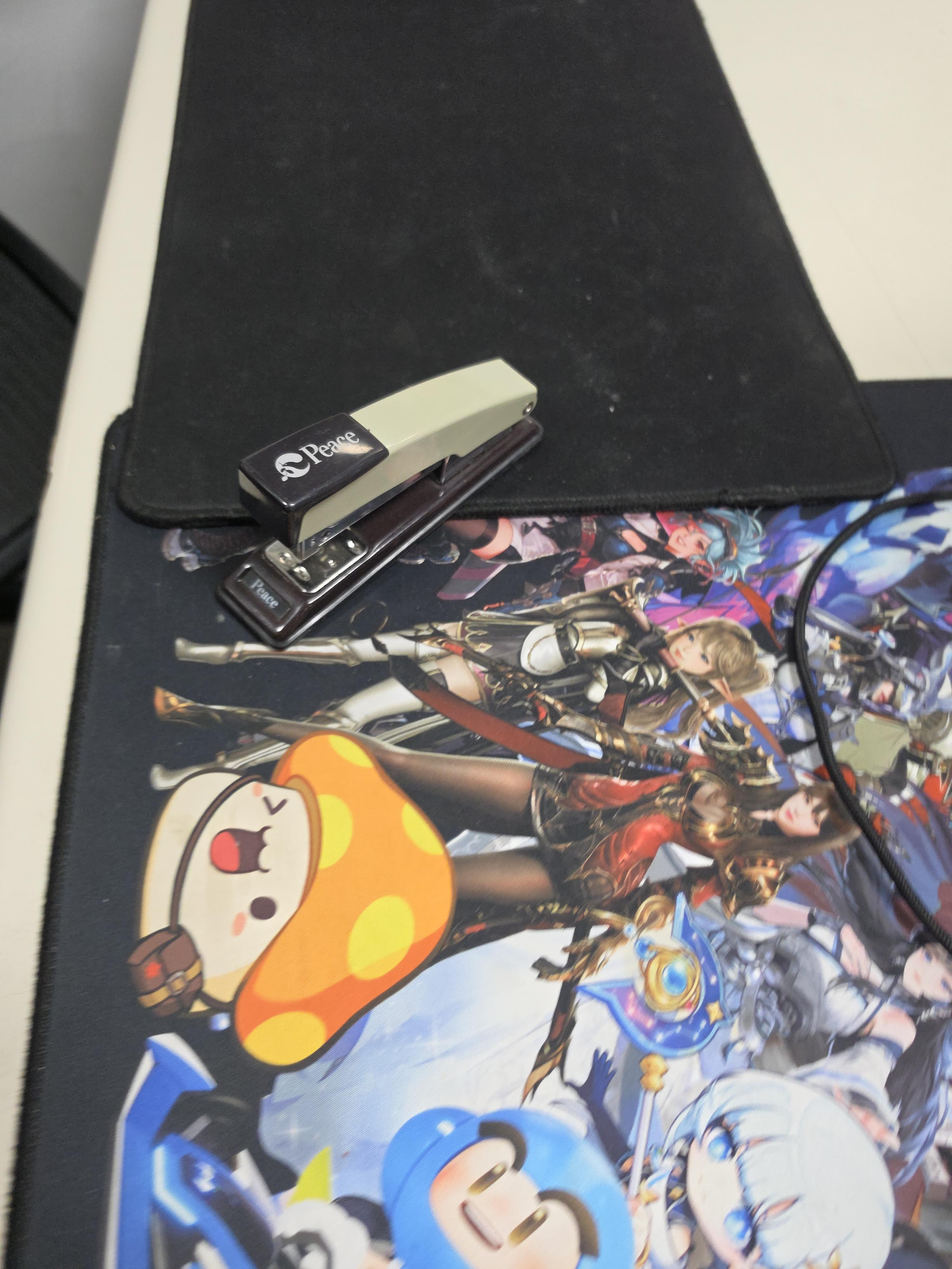stapler: (215, 358, 547, 648)
